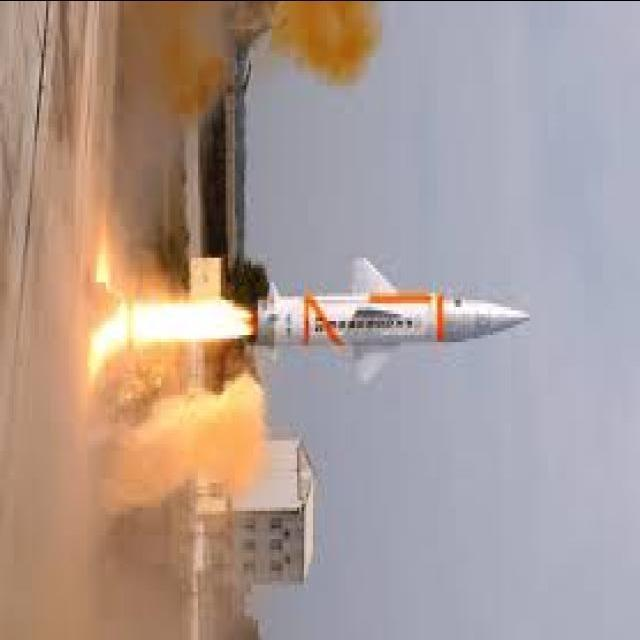Missile: (236, 289, 546, 352)
